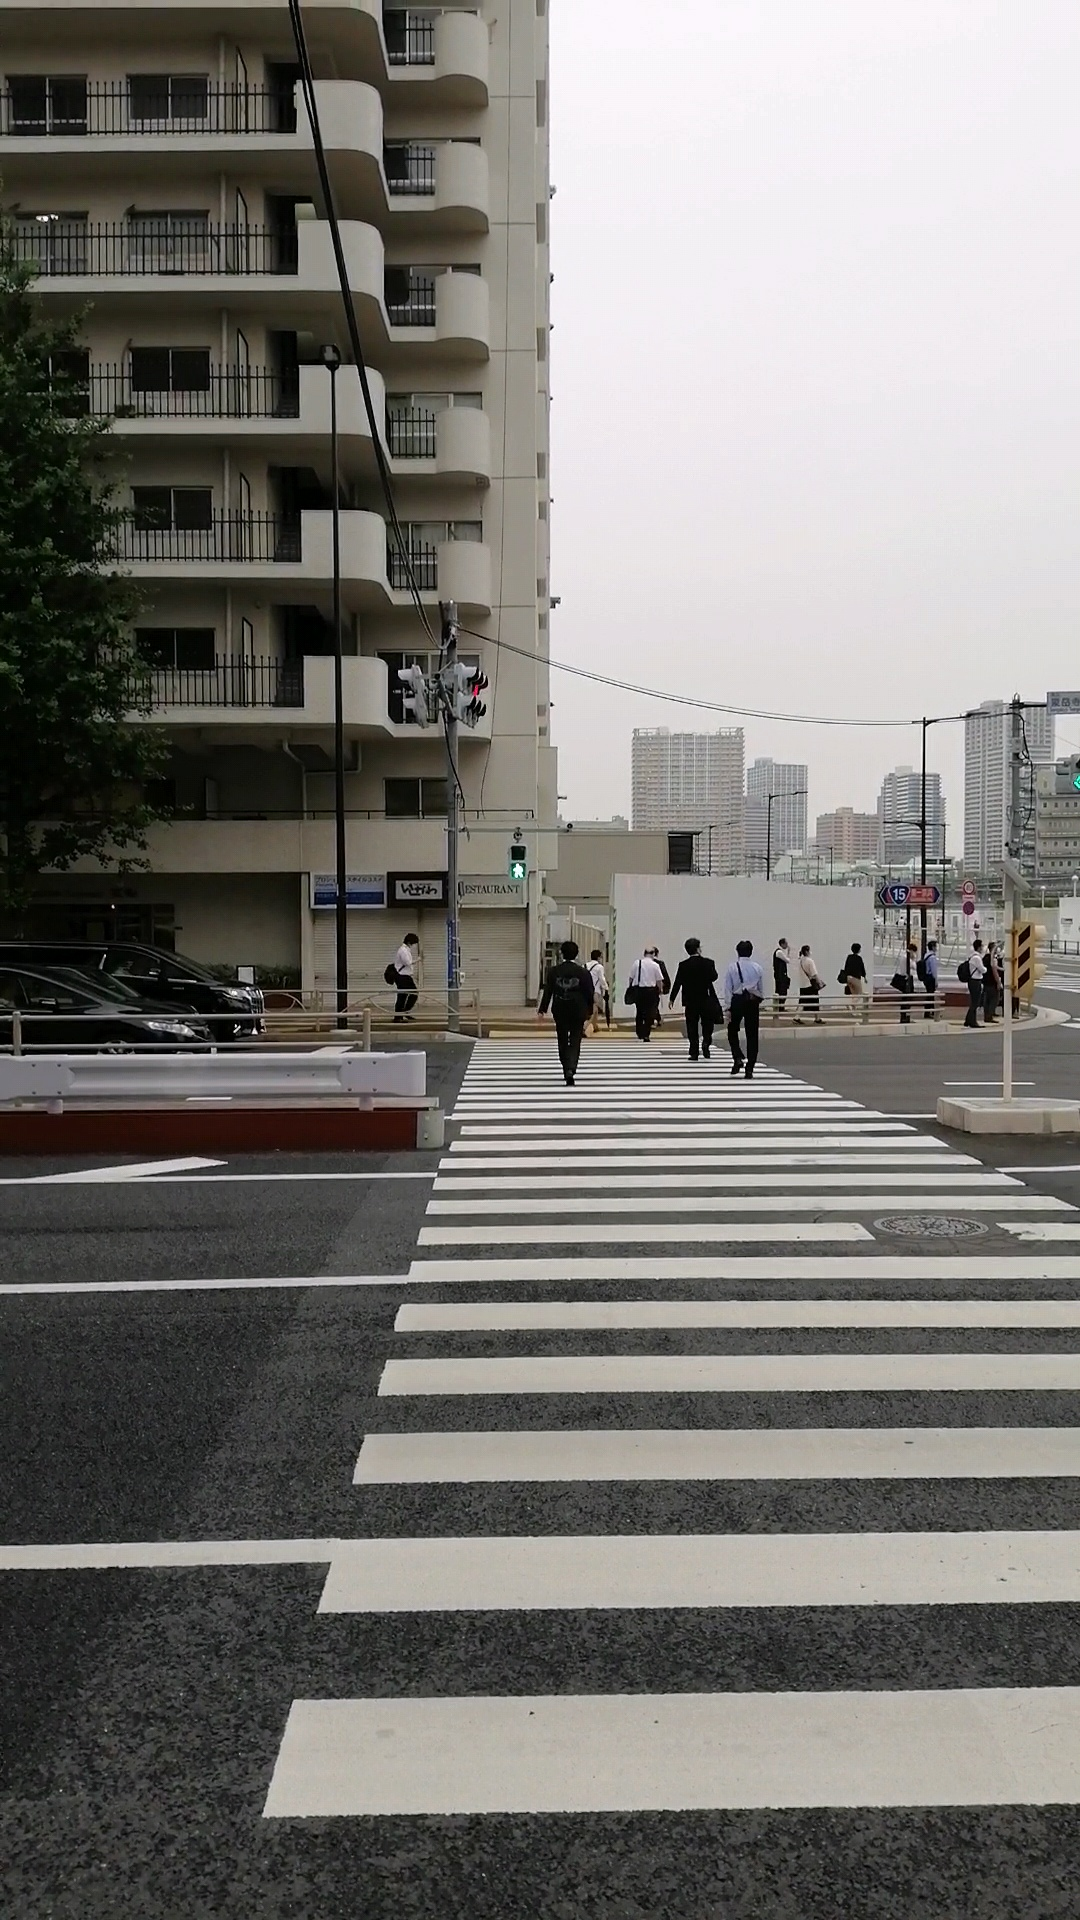green: (508, 843, 527, 880)
